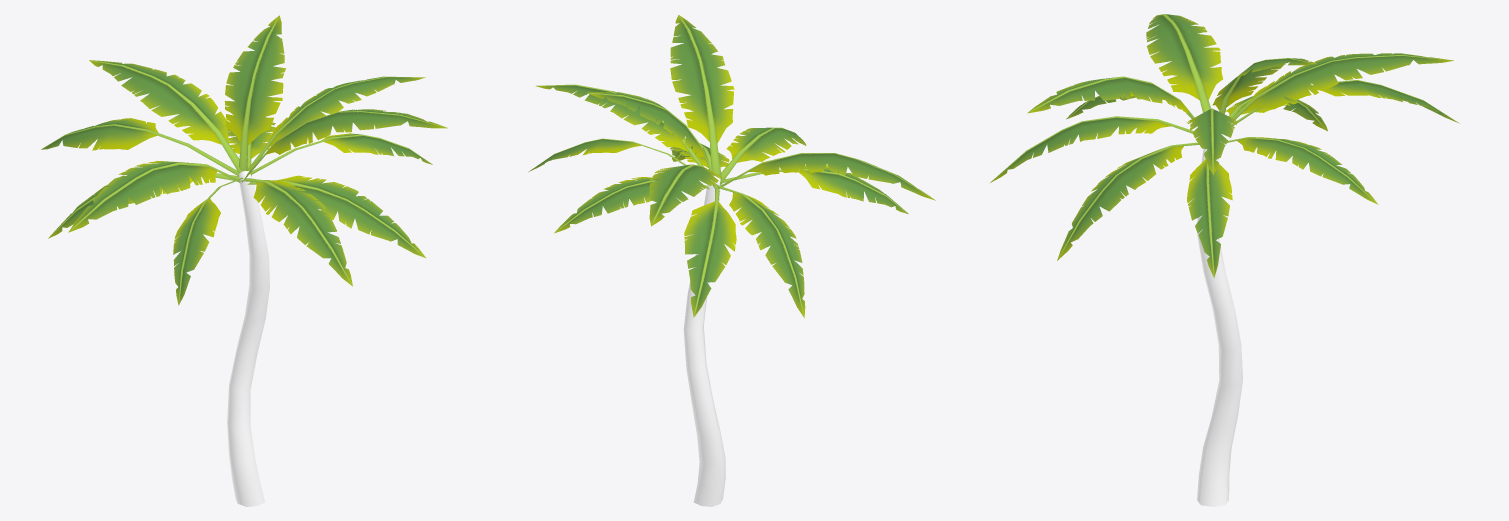
Rendered from palm.glb.
The picture shows the model from 3 angles, left to right: view 1: azimuth 30°, elevation 25°; view 2: azimuth 150°, elevation 25°; view 3: azimuth 270°, elevation 25°; orthographic projection. The views are drawn at different scales.
Visible parts, largest first — view 1: PalmTree_1; view 2: PalmTree_1; view 3: PalmTree_1.
Part boxes in pixels (x1,y1,x2,y2): PalmTree_1: [41, 15, 447, 506]; PalmTree_1: [528, 15, 935, 506]; PalmTree_1: [990, 14, 1459, 506].
Bounding box in the file's own units: 6.98 × 7 × 6.78.
2 materials, 1 textured.
